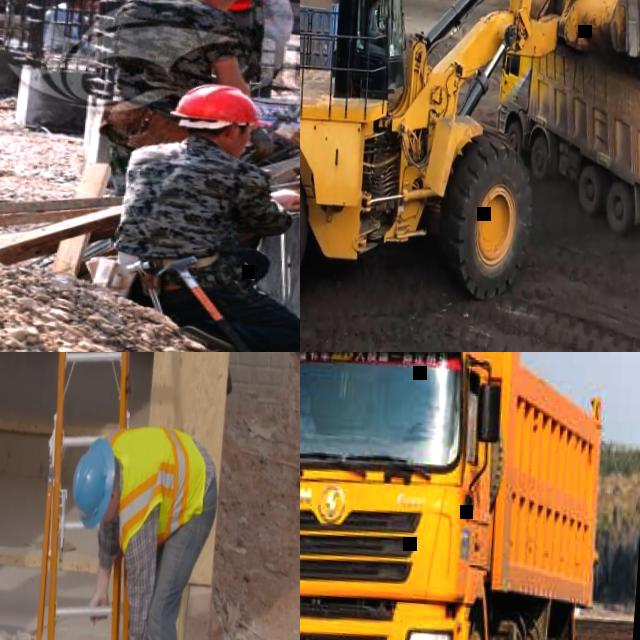Hardhat: (172, 77, 276, 134), (69, 434, 117, 529), (177, 0, 257, 15)
NO-Mask: (228, 134, 248, 157), (206, 0, 235, 13), (106, 502, 116, 523), (374, 2, 379, 9)
NO-Safety Vest: (112, 138, 264, 282), (92, 0, 229, 118), (44, 6, 88, 55), (368, 8, 378, 31)
Person: (97, 76, 300, 352), (61, 416, 223, 640), (94, 0, 259, 185), (44, 0, 101, 65), (365, 0, 388, 43)
Safety Vest: (105, 420, 208, 559)
vehicle: (300, 0, 640, 352), (300, 352, 616, 640), (488, 0, 640, 245), (300, 0, 397, 81)
